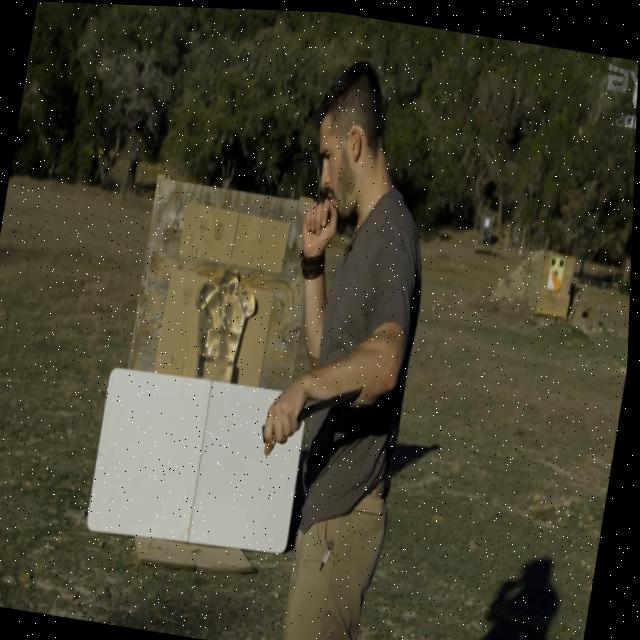knife: (300, 372, 367, 434)
